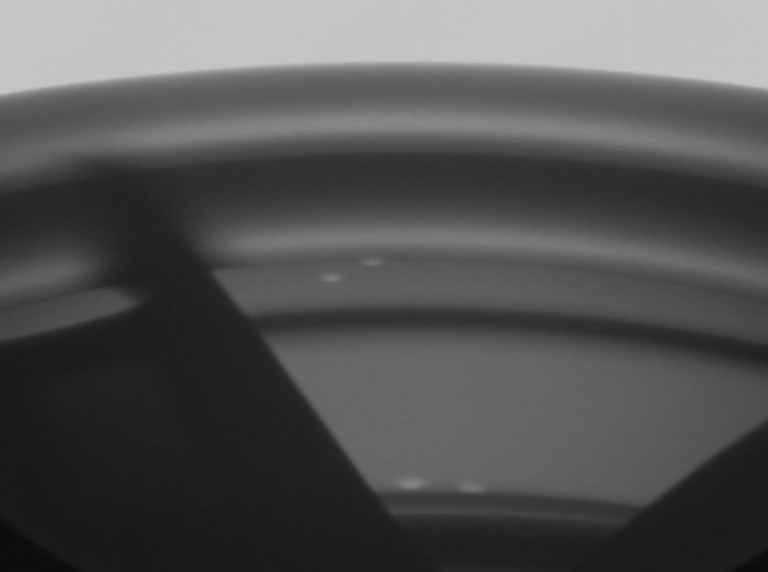defect: (447, 478, 498, 507)
